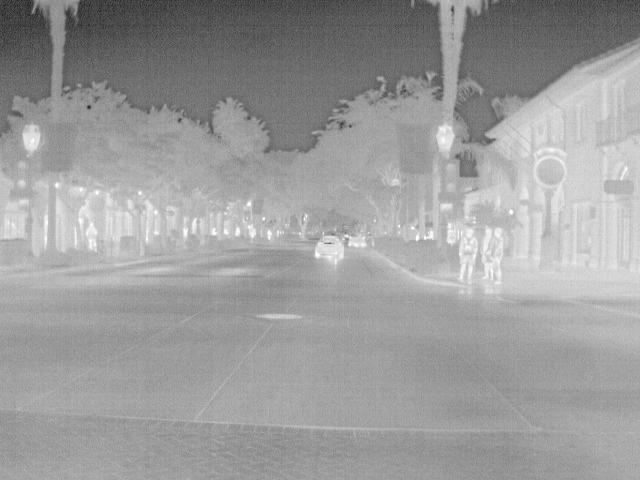car: (313, 234, 344, 262), (347, 235, 367, 251)
person: (456, 228, 479, 282), (479, 228, 495, 283), (490, 227, 504, 284), (85, 220, 98, 254)
